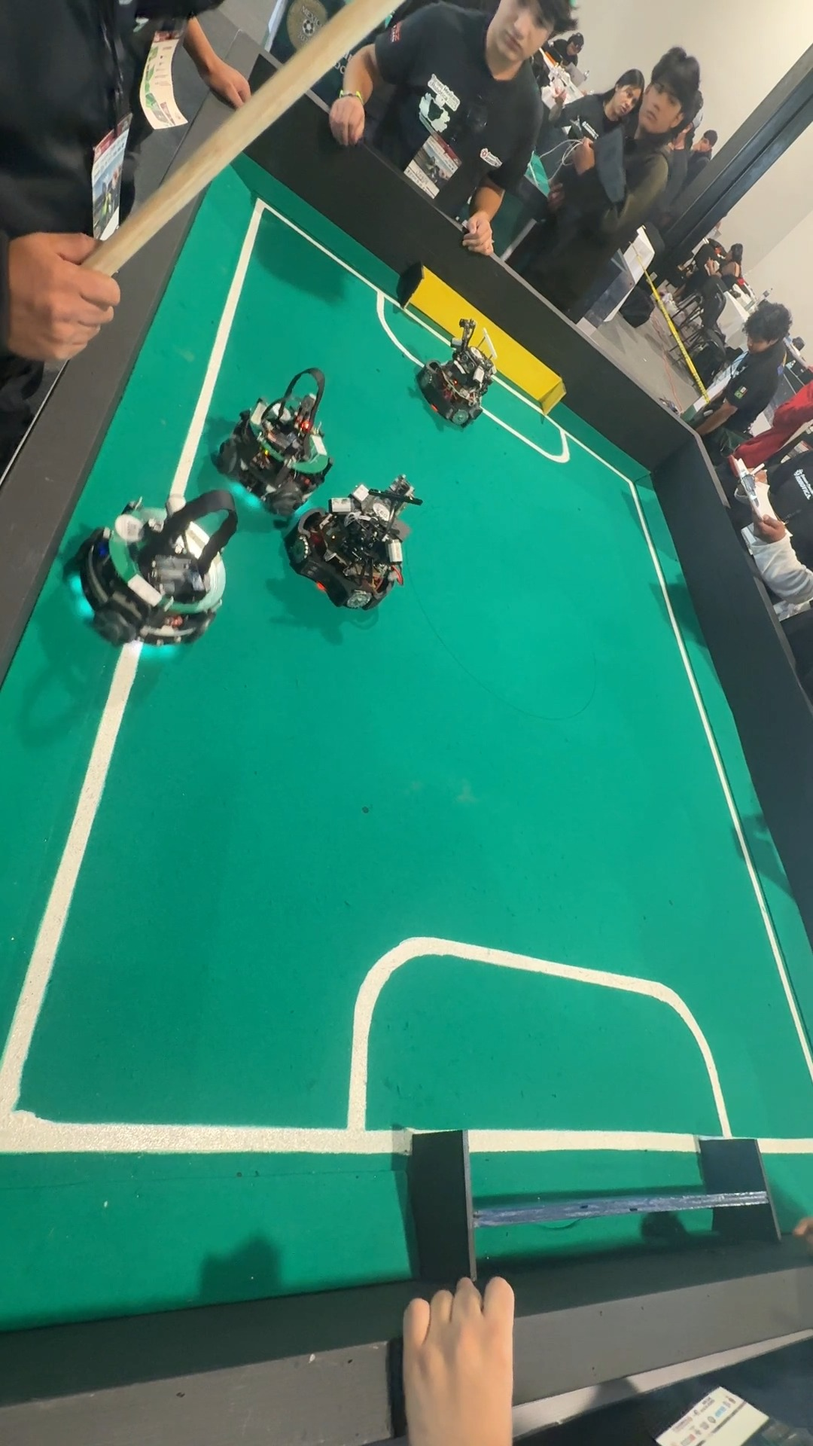Robot: (72, 471, 237, 664), (287, 455, 420, 620), (217, 351, 334, 533), (411, 301, 499, 436)
